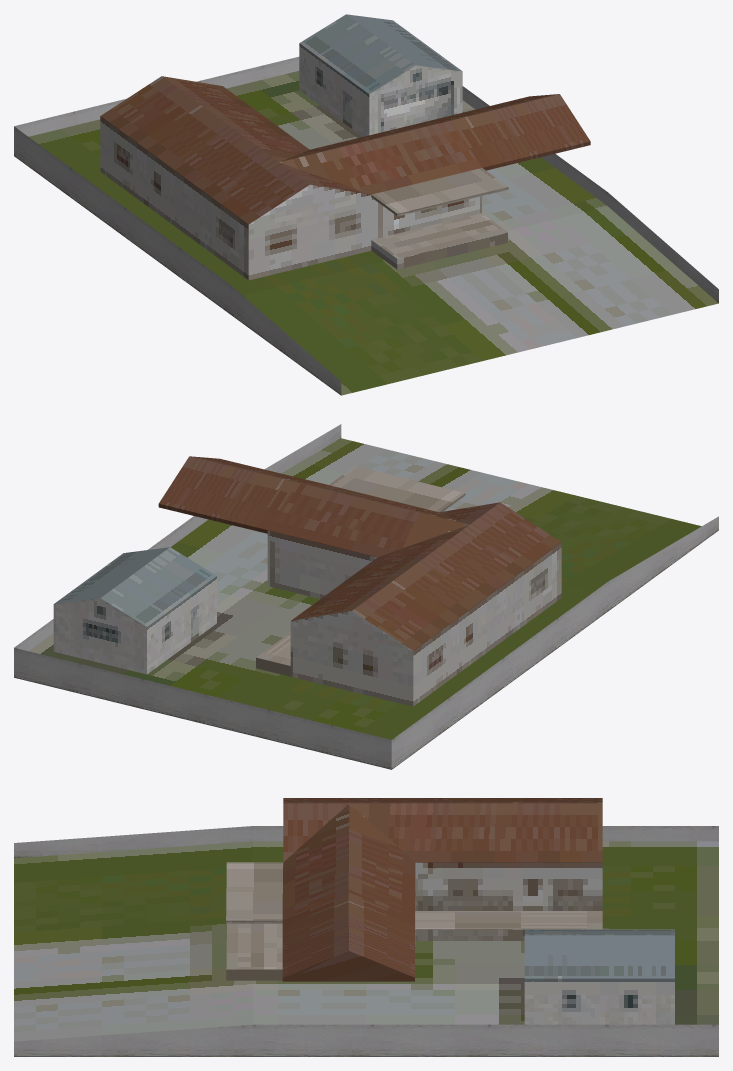
File: lodswbigburb03.obj
3 renders of one model, top to bottom at view 1: azimuth 30°, elevation 25°; view 2: azimuth 150°, elevation 25°; view 3: azimuth 270°, elevation 25°, orthographic. The views are drawn at different scales.
Visible parts, largest first — view 1: LODswbigburb03; view 2: LODswbigburb03; view 3: LODswbigburb03.
Boxes of the visible parts, bbox=[...] form: LODswbigburb03: bbox=[14, 14, 718, 395]; LODswbigburb03: bbox=[14, 424, 718, 769]; LODswbigburb03: bbox=[14, 798, 718, 1056].
Bounding box in the file's own units: 25 × 6.11 × 37.5.
Materials: 4 (4 with a texture image).
